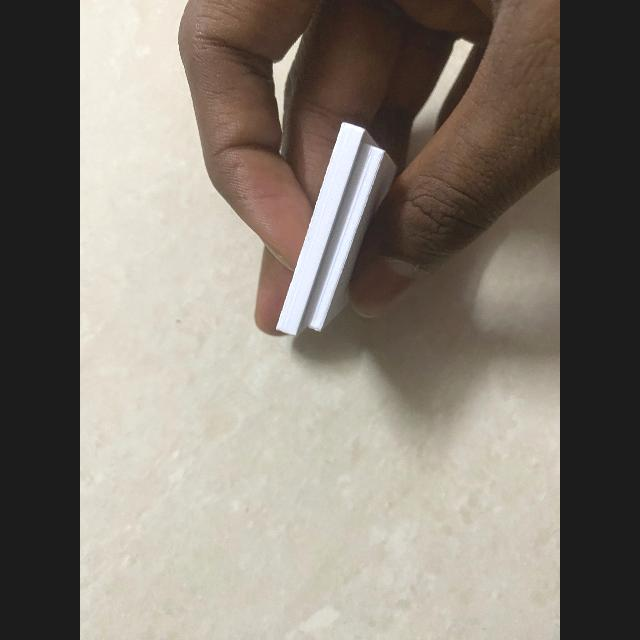RASPBERY PI CAM ENCLOSURE: (276, 121, 396, 336)
